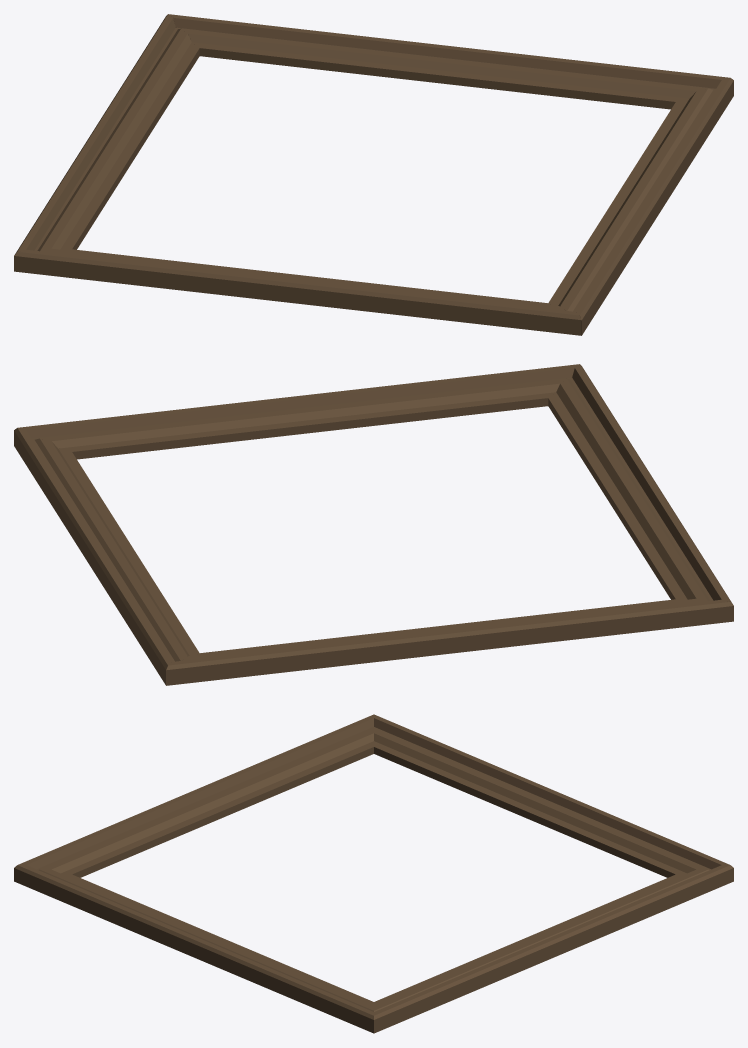
File: frame_1.obj
3 views of the same model, one above another, from view 1: azimuth 30°, elevation 25°; view 2: azimuth 150°, elevation 25°; view 3: azimuth 270°, elevation 25° (orthographic). The views are drawn at different scales.
Visible parts, largest first — view 1: 立方体_立方体.001; view 2: 立方体_立方体.001; view 3: 立方体_立方体.001.
Part boxes in pixels (x1,y1,x2,y2): 立方体_立方体.001: [14, 14, 733, 335]; 立方体_立方体.001: [14, 364, 733, 685]; 立方体_立方体.001: [14, 714, 733, 1033].
Size of the model in its own units: 2.24 by 0.0563 by 2.24.
